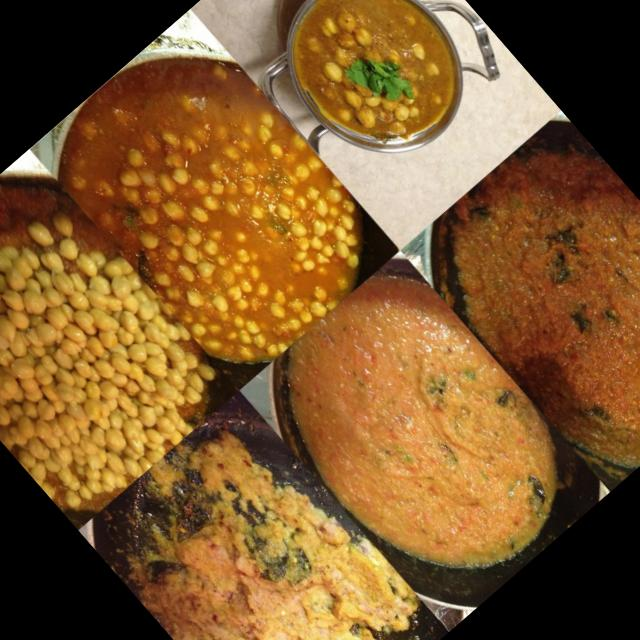Chole: (29, 9, 400, 390), (0, 148, 239, 529), (268, 0, 482, 170)
